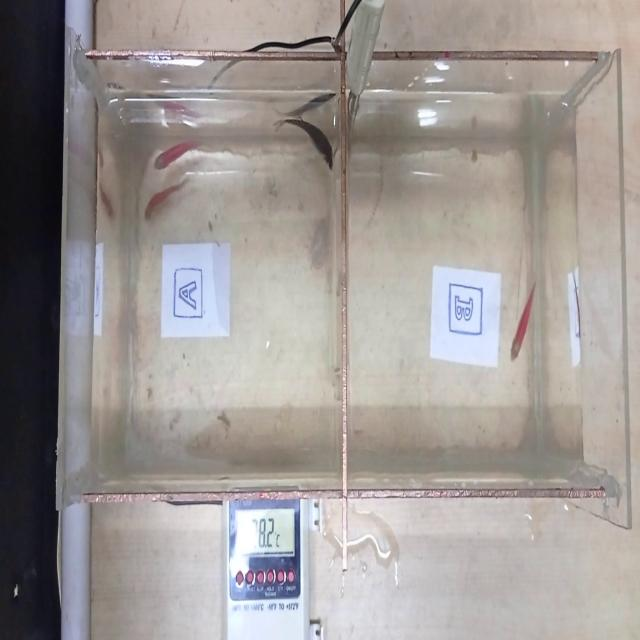Fish A1: (269, 106, 338, 187)
Fish A2: (138, 171, 205, 231)
Fish A3: (149, 133, 207, 187)
Fish B: (504, 267, 543, 378)
